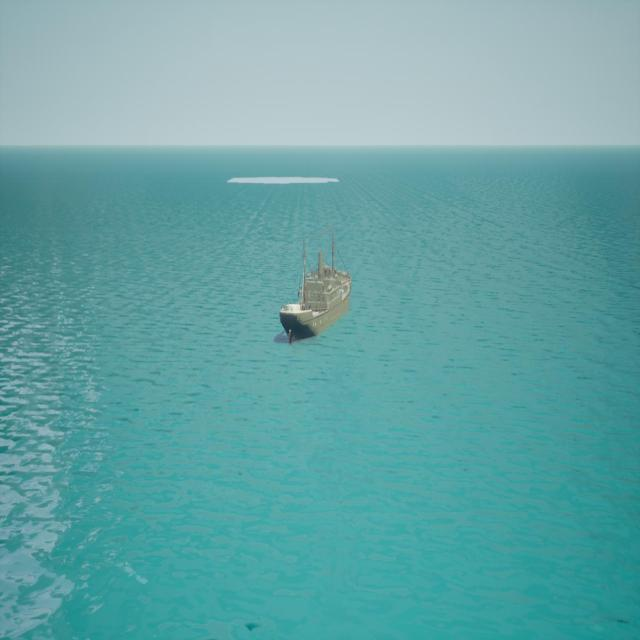fishing ship: (279, 228, 354, 345)
